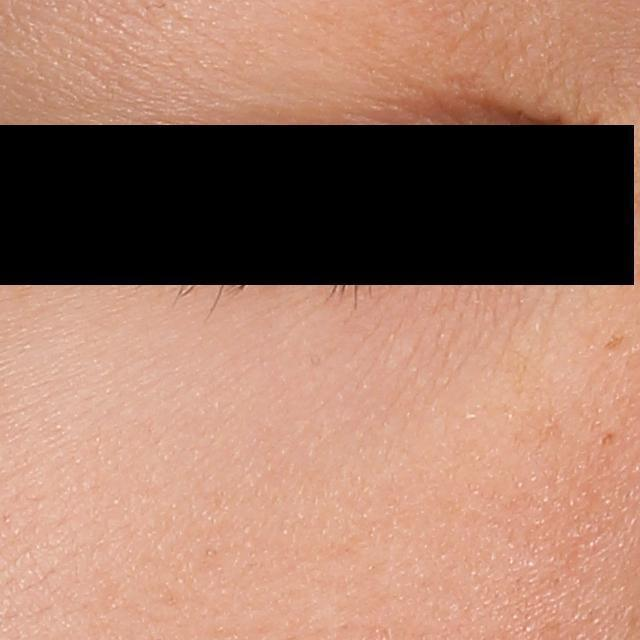melasma: (601, 329, 626, 352)
